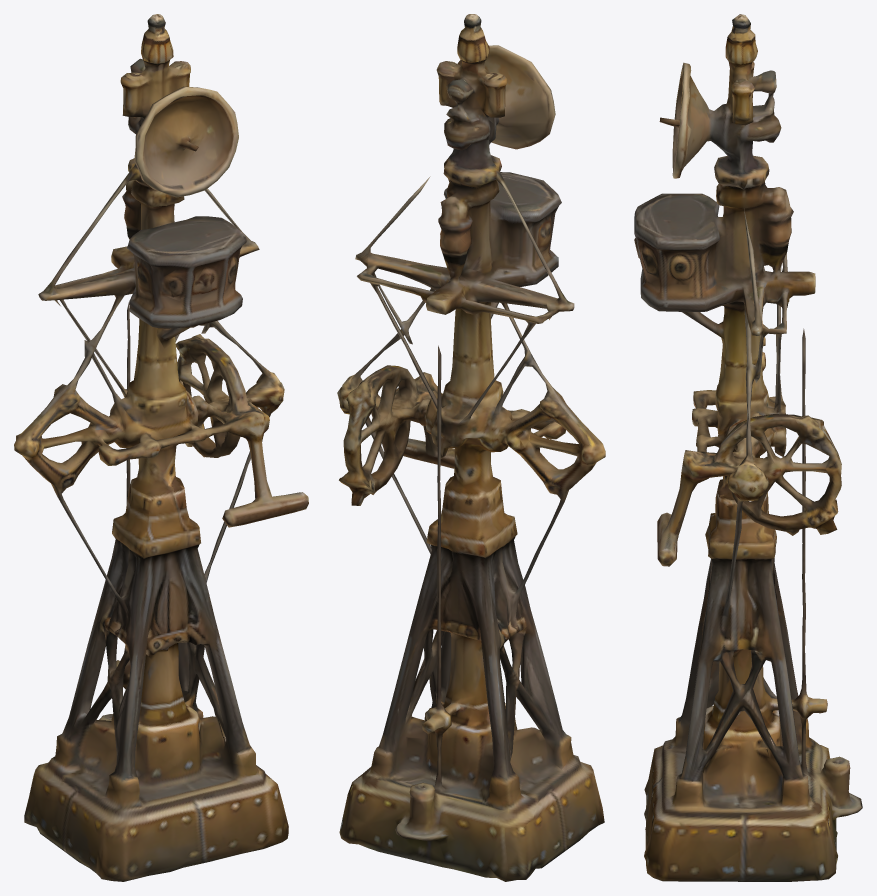
Rendered from Brasswake radar mast.glb.
3 views of the same model, side by side, from view 1: azimuth 30°, elevation 25°; view 2: azimuth 150°, elevation 25°; view 3: azimuth 270°, elevation 25° (orthographic).
Visible parts, largest first — view 1: SignalTower; view 2: SignalTower; view 3: SignalTower.
Part boxes in pixels (x1,y1,x2,y2): SignalTower: (14,14,308,881); SignalTower: (337,14,605,881); SignalTower: (634,14,862,881).
Size of the model in its own units: 0.615 by 1.8 by 0.4516.
1 material, 1 textured.
